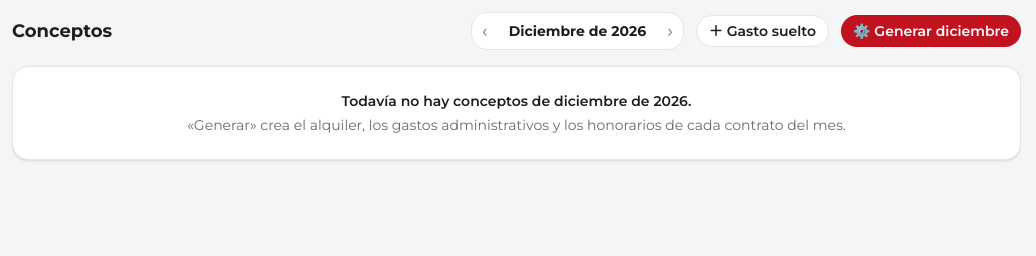
Scenario: ConceptosMes › generar informa lo creado y lo que quedó sin indexar, con el camino a indexar
What coordinates should you click on to do the following:
click the button "⚙️ Generar diciembre"
I would click on:
 (931, 31)
Its box is [841,15,1021,47].
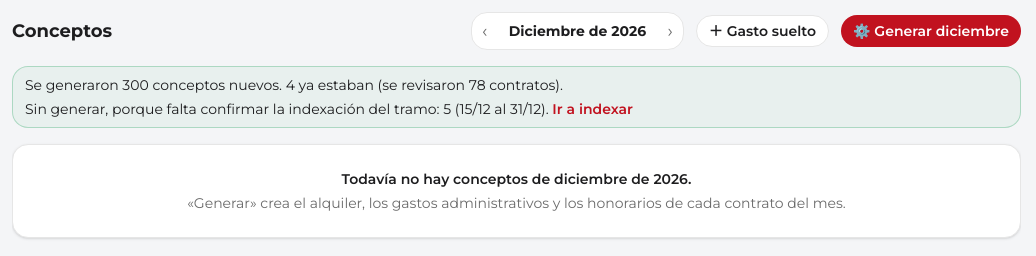
Check: the message shows "Se generaron 300 conceptos nuevos. 4 ya estaban (se revisaron 78 contratos).", box [25,76,563,94]
Check: the message shows "Sin generar, porque falta confirmar la indexación del tramo: 5 (15/12 al 31/12)", box [12,66,1021,128]
